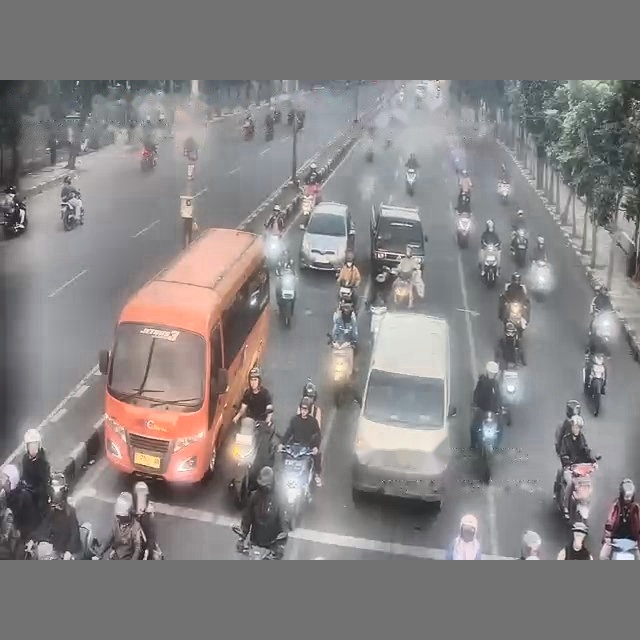Bis: (99, 229, 269, 483)
Mobil: (370, 203, 427, 277), (299, 201, 355, 270)
Motor: (277, 444, 313, 529), (24, 522, 99, 559), (229, 420, 256, 507), (568, 463, 596, 525), (477, 412, 501, 482), (582, 353, 605, 416), (331, 341, 353, 406), (238, 532, 287, 559), (588, 310, 616, 354), (0, 194, 27, 238), (501, 319, 525, 367), (277, 270, 296, 328), (60, 191, 83, 230), (529, 260, 551, 300), (481, 244, 500, 288), (301, 184, 320, 228), (392, 269, 412, 308), (510, 228, 527, 267), (265, 231, 282, 268), (611, 539, 637, 559), (456, 213, 471, 247), (140, 149, 156, 171), (456, 191, 470, 213), (497, 181, 510, 204), (405, 168, 416, 195), (242, 120, 254, 140), (265, 123, 273, 141), (273, 109, 281, 123), (365, 149, 373, 162)
